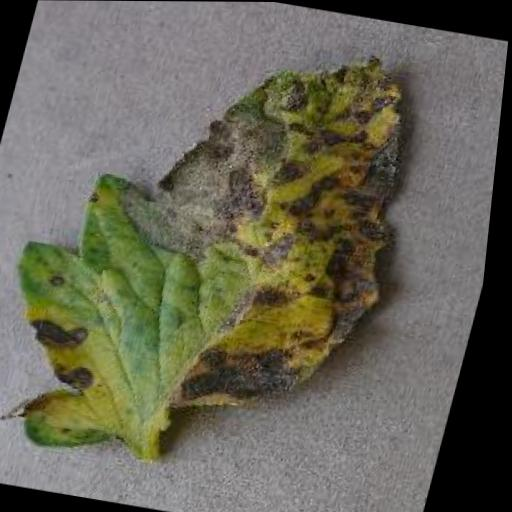Early Blight: (0, 0, 449, 493)
